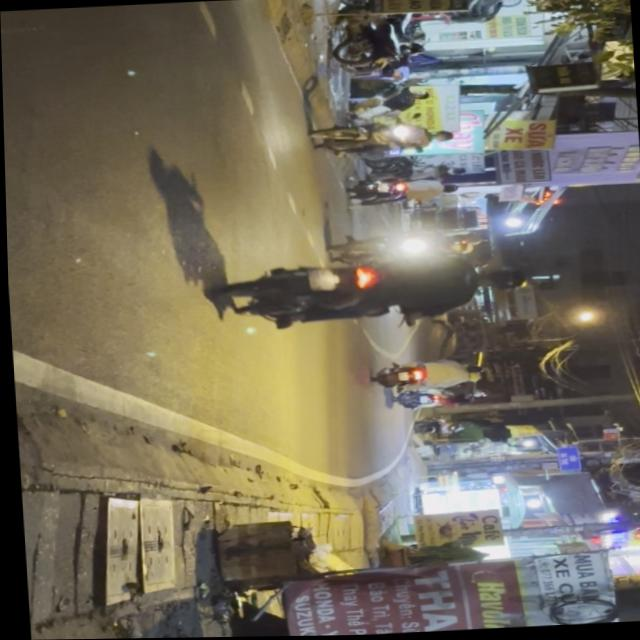helmet: (472, 263, 527, 294)
licenseplate: (207, 247, 537, 335)
